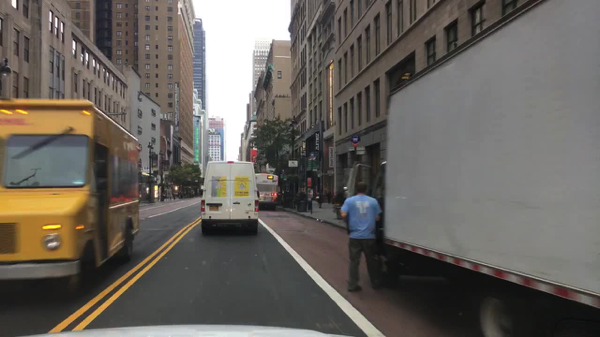bus: (256, 172, 279, 210)
person: (338, 183, 385, 294), (316, 189, 323, 209), (306, 190, 312, 207), (327, 191, 331, 203)
traffic sign: (351, 134, 358, 146), (289, 160, 298, 169), (312, 160, 319, 171), (306, 160, 311, 173), (308, 153, 316, 160)
truck: (336, 0, 599, 337), (0, 98, 142, 292), (200, 160, 259, 235)
